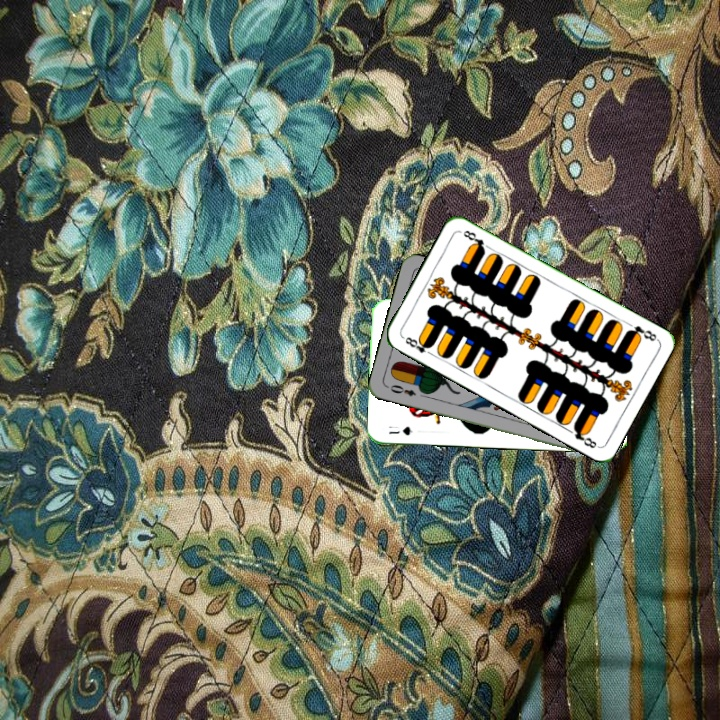E8: (399, 333, 436, 358), (623, 321, 660, 344)
EO: (386, 380, 418, 399)
GU: (384, 422, 415, 438)
